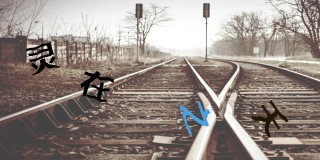之: (178, 99, 210, 138)
在: (79, 69, 115, 103)
天: (251, 98, 288, 138)
灵: (26, 42, 62, 75)
